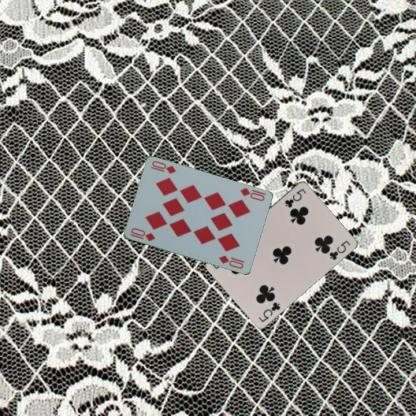10d: (127, 225, 156, 243), (237, 186, 267, 202)
5c: (256, 299, 281, 323), (282, 186, 307, 209)
